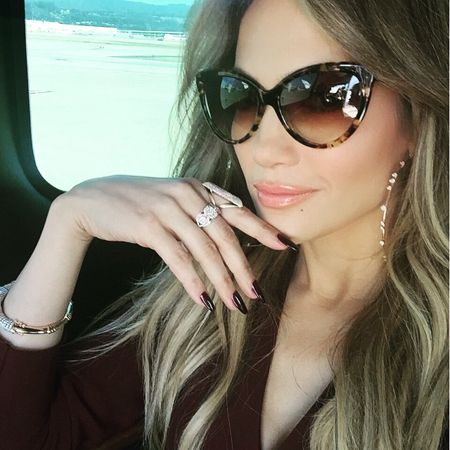sunglasses: (194, 59, 363, 141)
